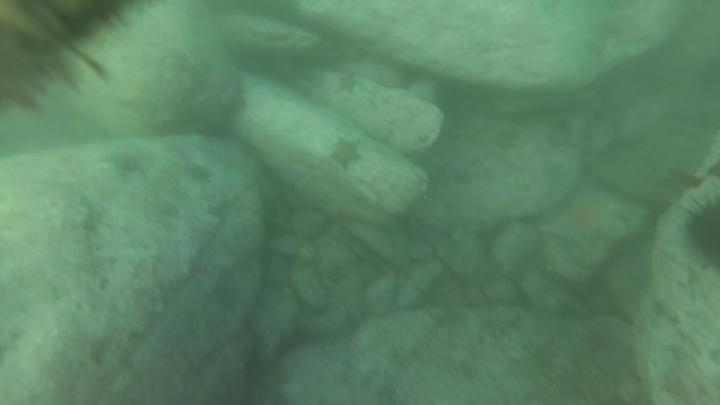echinus: (670, 185, 720, 277)
starfish: (96, 145, 148, 182), (325, 135, 369, 175), (542, 124, 580, 153), (335, 72, 362, 98)
